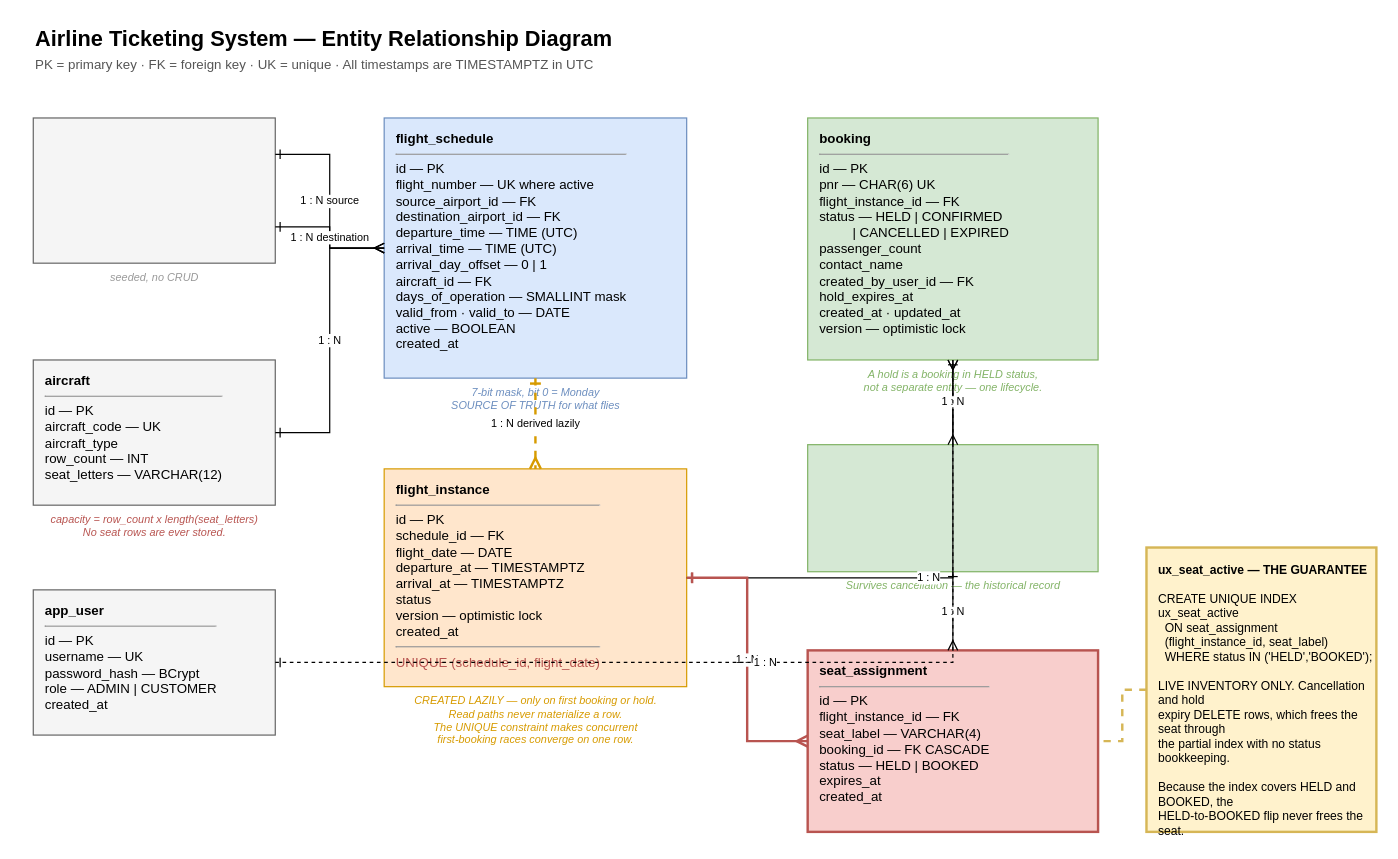
The diagram is 1398 pixels wide and 859 high, and some of its shapes have lost their labels. The shapes that lost their labels are listed below. From the top down, each one's box as (x1, y1, x2, y2) in pixels, then its label:
(32, 117, 275, 263): airport id — PK iata_code — CHAR(3) UK name city country
(806, 443, 1098, 572): passenger id — PK booking_id — FK CASCADE full_name seat_label — what was SOLD
